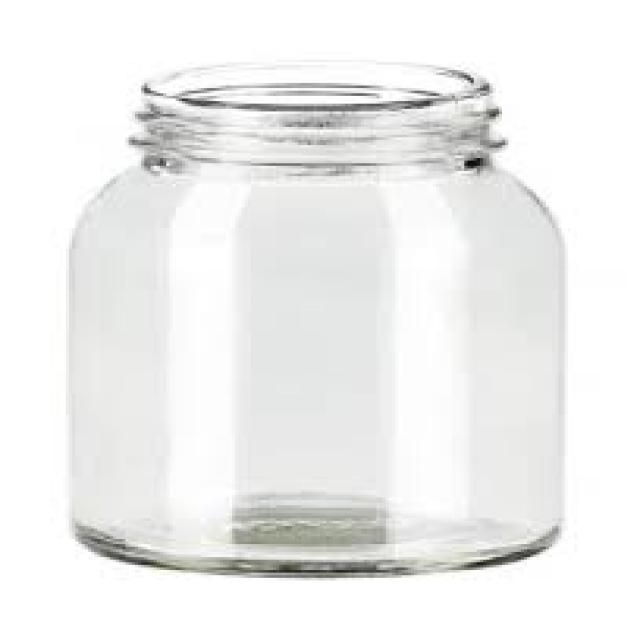glass: (63, 60, 555, 573)
